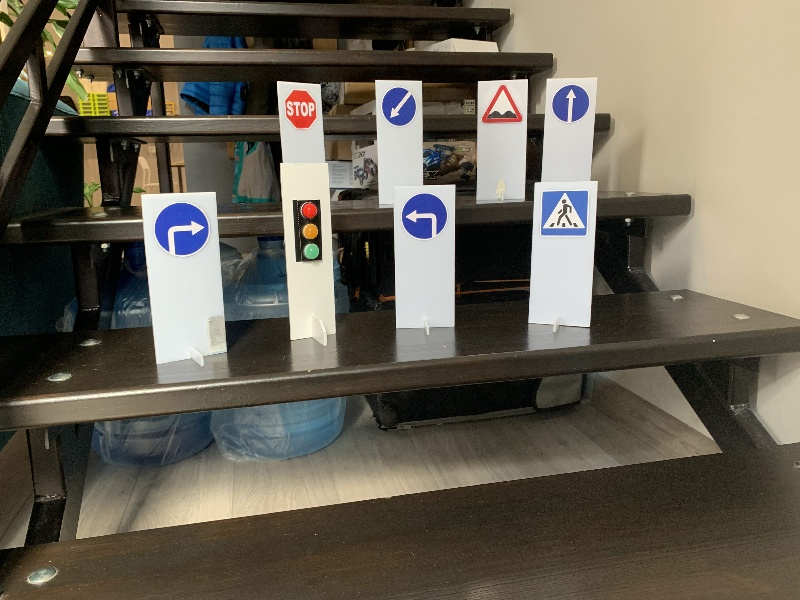Left: (400, 191, 448, 242)
Nerov: (481, 83, 522, 124)
Right: (152, 200, 208, 258)
Stop: (283, 87, 317, 130)
forw: (551, 84, 591, 124)
pesh: (537, 190, 590, 239)
prep: (381, 87, 415, 126)
